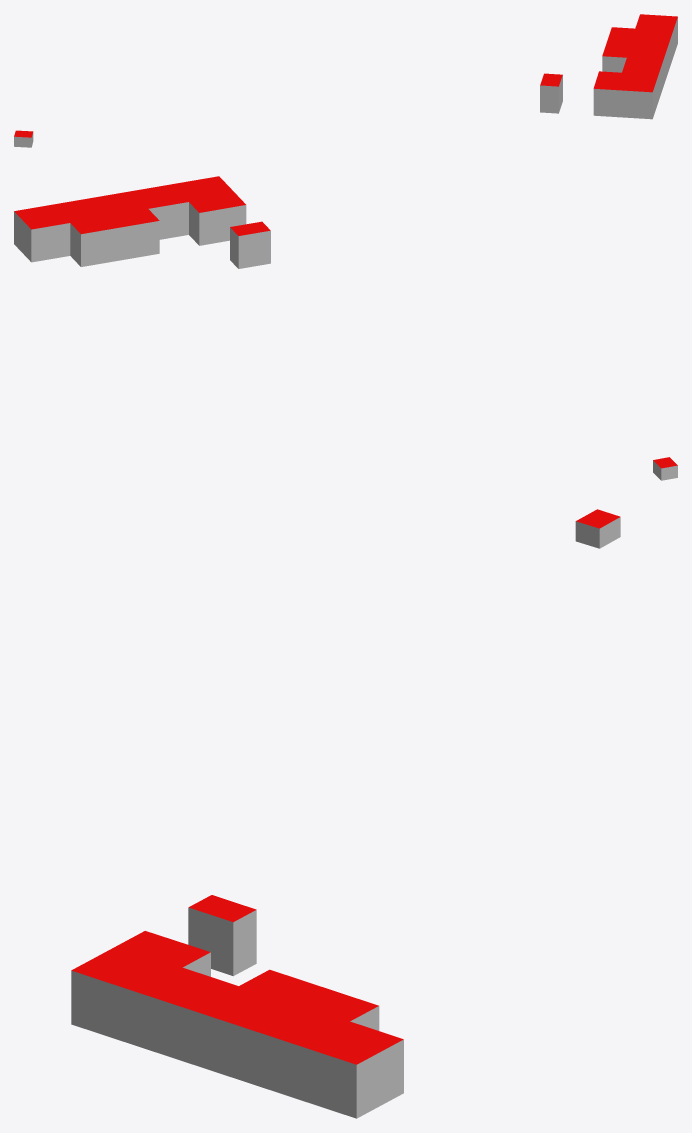
3 views of the same model, one above another, from view 1: azimuth 30°, elevation 25°; view 2: azimuth 150°, elevation 25°; view 3: azimuth 270°, elevation 25° (orthographic). The views are drawn at different scales.
Bounding box in the file's own units: 188 × 8.03 × 74.1.
